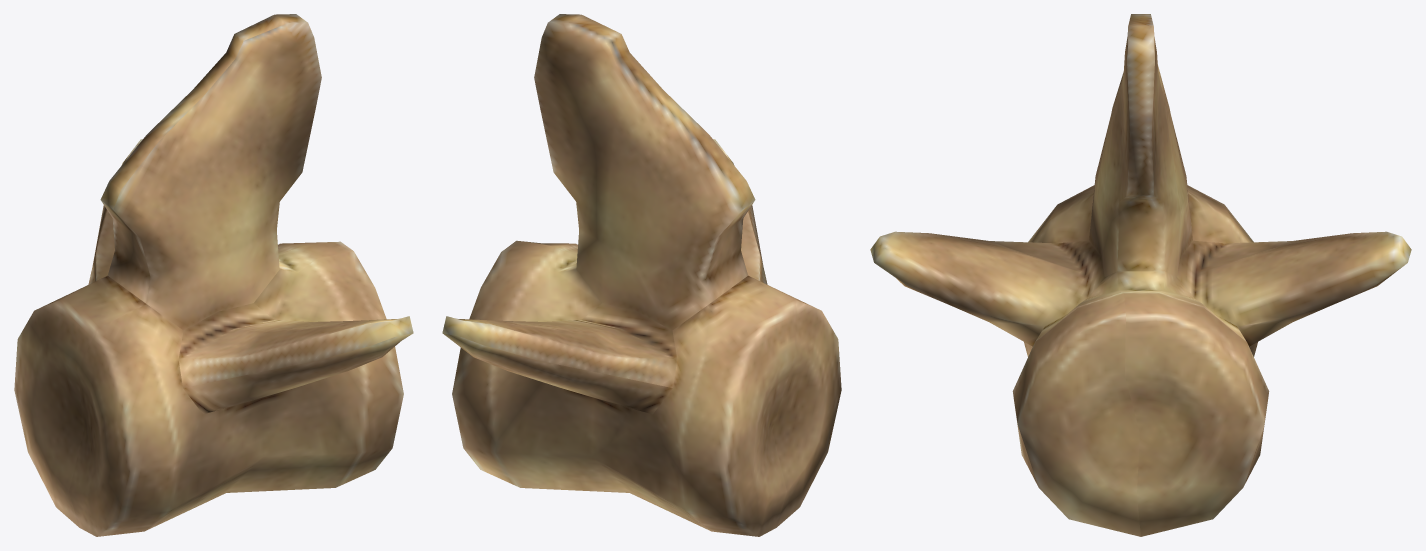
Rendered from bone_04.FBX.
3 views of the same model, side by side, from view 1: azimuth 30°, elevation 25°; view 2: azimuth 150°, elevation 25°; view 3: azimuth 270°, elevation 25° (orthographic). The views are drawn at different scales.
Parts seen in each view (by area): view 1: bone_04; view 2: bone_04; view 3: bone_04.
Part boxes in pixels (x1,y1,x2,y2): bone_04: (14,14,413,536); bone_04: (442,14,841,536); bone_04: (870,14,1411,536).
Size of the model in its own units: 10.67 by 16.63 by 16.63.
